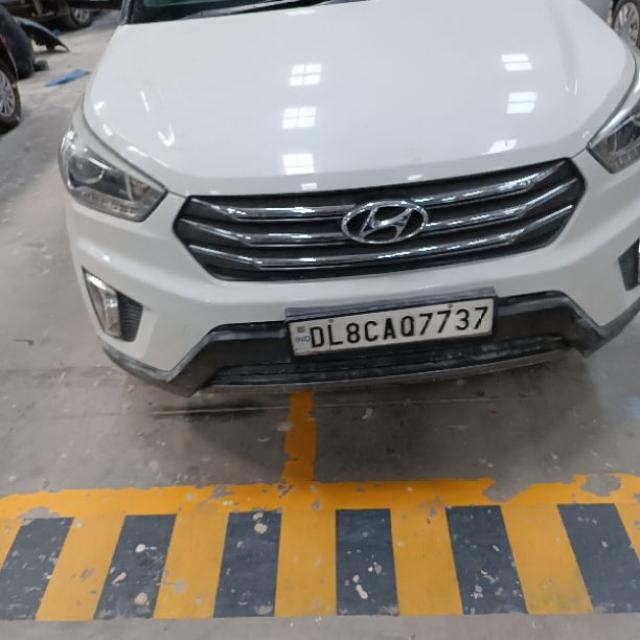license_plate: (284, 294, 496, 358)
